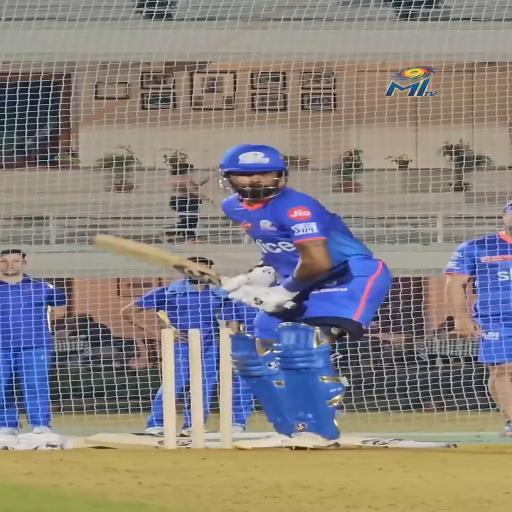Cricket bat: (92, 235, 223, 288)
